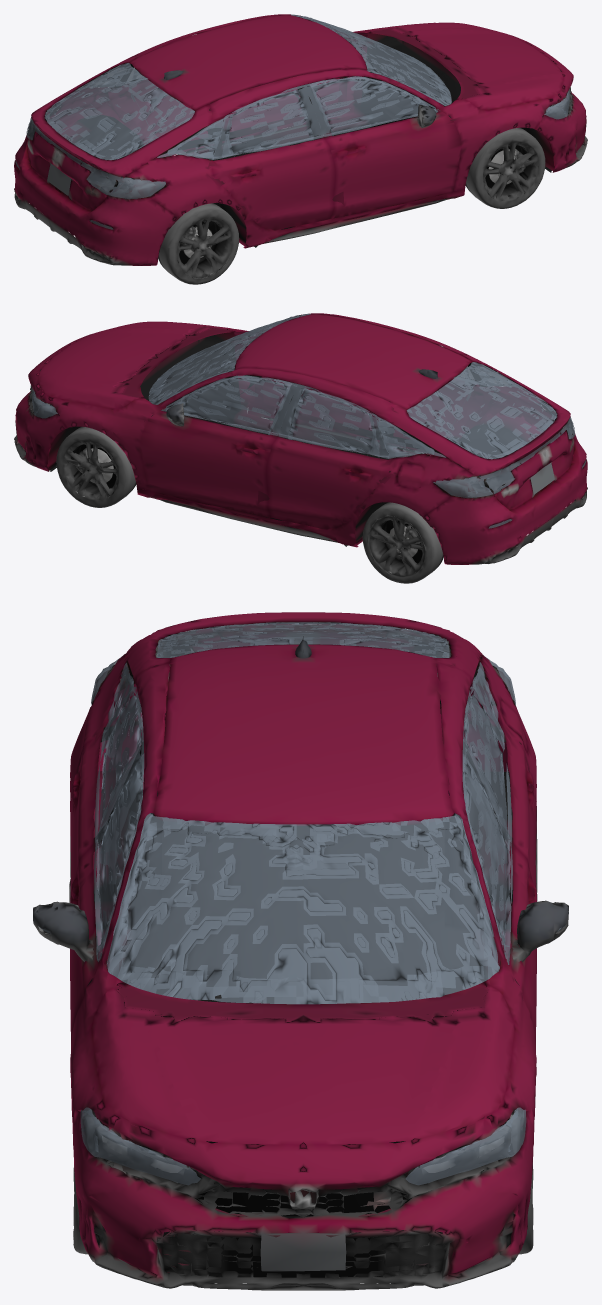
File: civic.glb
3 views of the same model, one above another, from view 1: azimuth 30°, elevation 25°; view 2: azimuth 150°, elevation 25°; view 3: azimuth 270°, elevation 25° (orthographic). The views are drawn at different scales.
Visible parts, largest first — view 1: car; view 2: car; view 3: car.
Part boxes in pixels (x1,y1,x2,y2): car: (14,14,587,284); car: (14,313,587,583); car: (33,612,568,1290).
Size of the model in its own units: 4.55 by 1.42 by 2.06.
